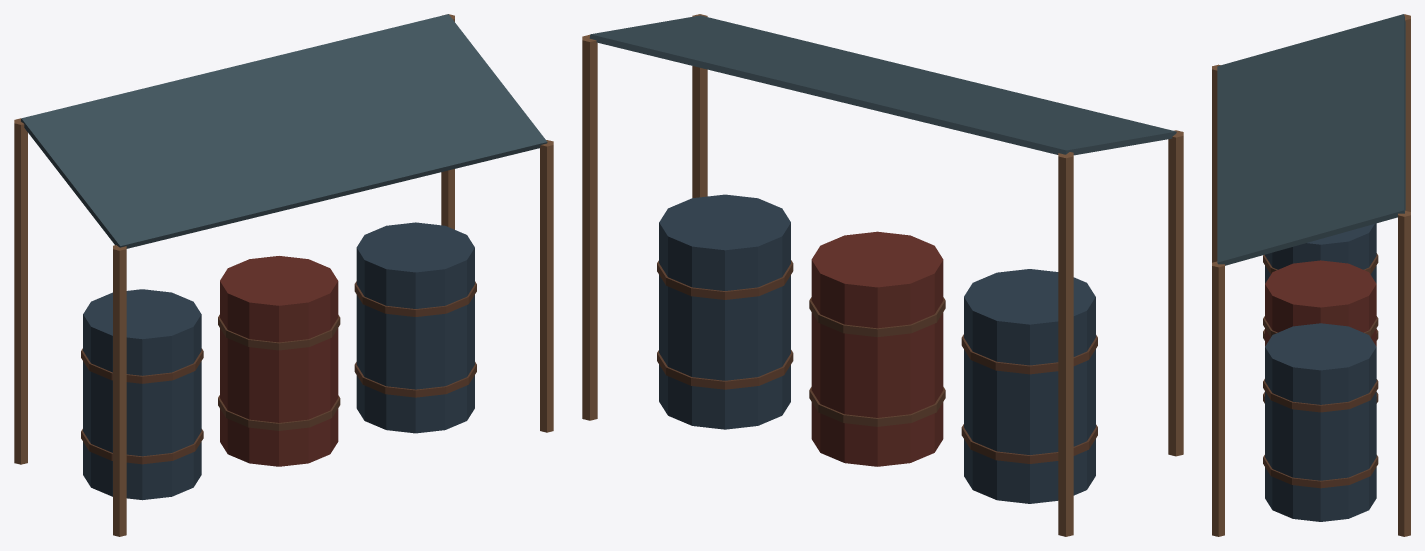
Rendered from room_water_1.glb.
3 renders of one model, left to right at view 1: azimuth 30°, elevation 25°; view 2: azimuth 150°, elevation 25°; view 3: azimuth 270°, elevation 25°, orthographic. The views are drawn at different scales.
Parts seen in each view (by area): view 1: room_water_1; view 2: room_water_1; view 3: room_water_1.
Boxes of the visible parts, x1,y1,x2,y2 form: room_water_1: [14, 14, 553, 536]; room_water_1: [582, 14, 1183, 536]; room_water_1: [1212, 14, 1410, 536].
Size of the model in its own units: 2.58 by 1.92 by 1.07.
